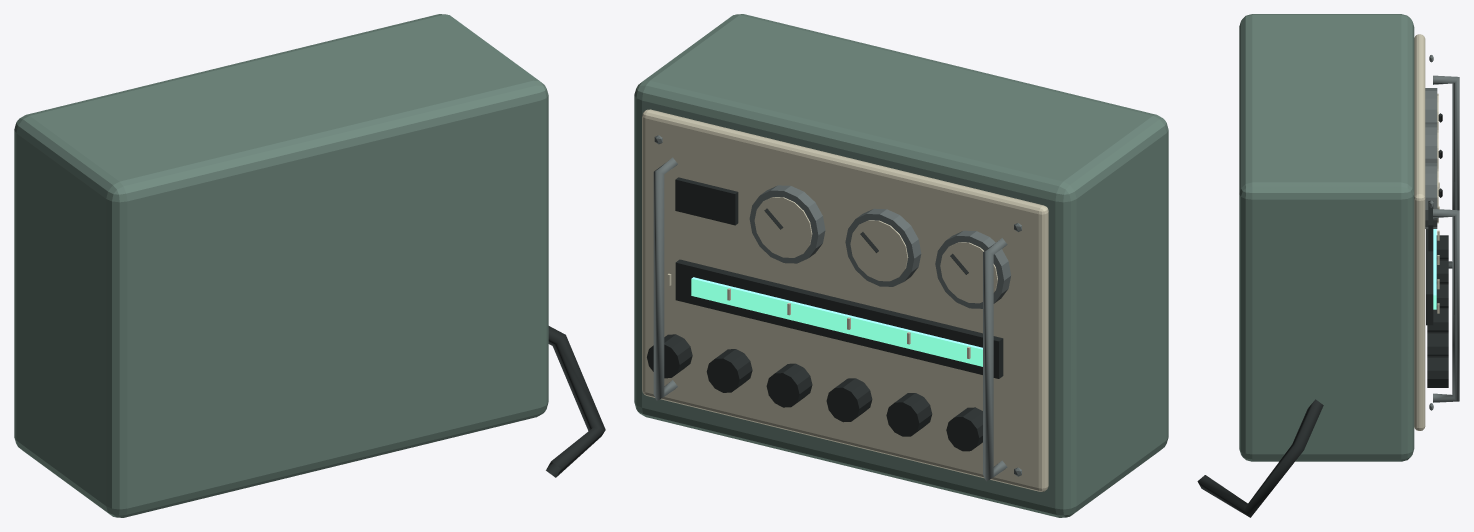
Rendered from transmitter.glb.
3 renders of one model, left to right at view 1: azimuth 30°, elevation 25°; view 2: azimuth 150°, elevation 25°; view 3: azimuth 270°, elevation 25°, orthographic. The views are drawn at different scales.
Parts seen in each view (by area): view 1: transmitter; view 2: transmitter; view 3: transmitter.
Part boxes in pixels (left/top/right/bottom): transmitter: left=14, top=14, right=605, bottom=517; transmitter: left=634, top=14, right=1168, bottom=517; transmitter: left=1197, top=14, right=1459, bottom=517.
Bounding box in the file's own units: 1.65 × 1.19 × 0.9134.
